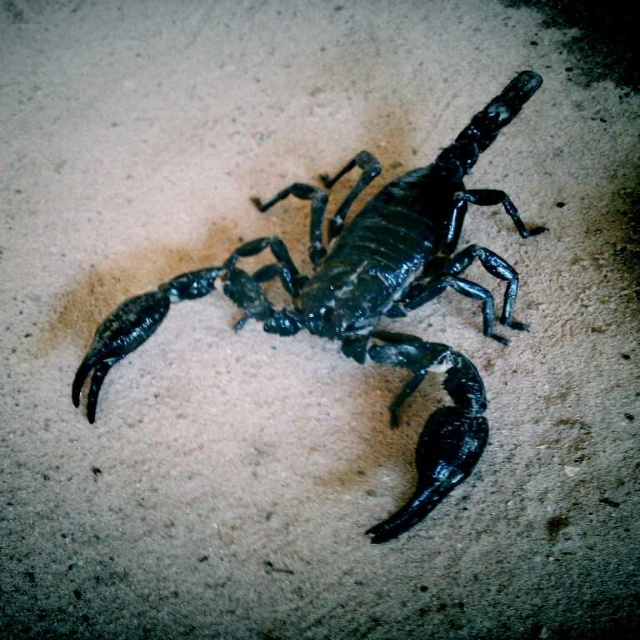Scorpion: (72, 70, 550, 544)
